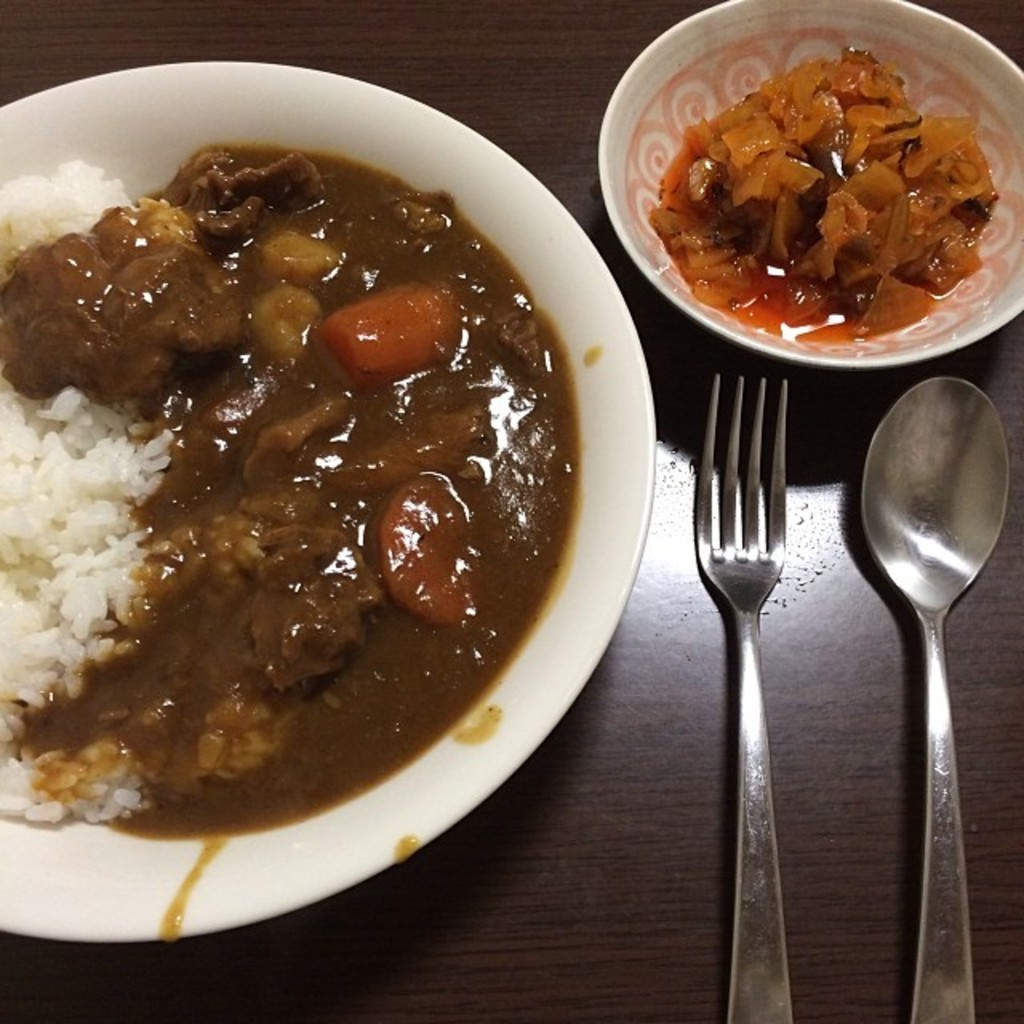fork: (693, 372, 793, 1023)
